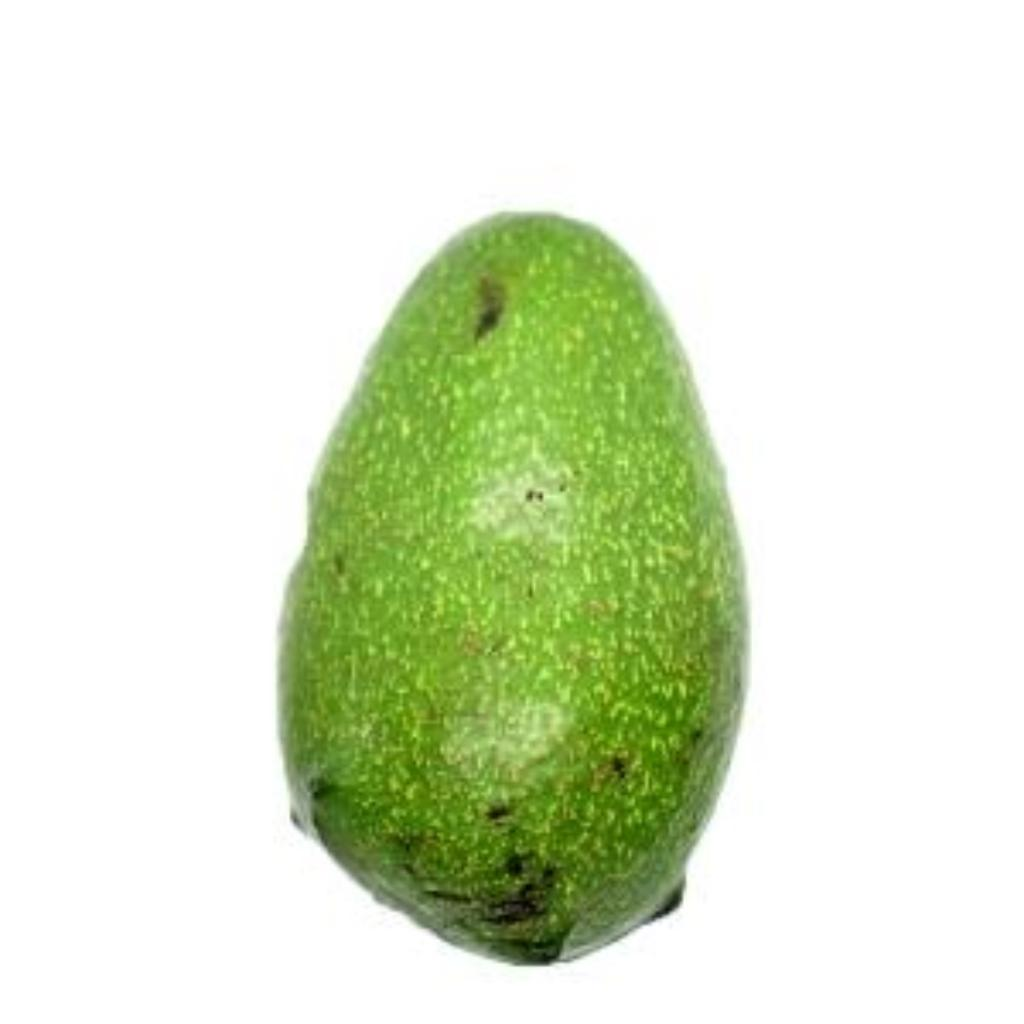cercospora: (248, 195, 815, 983)
